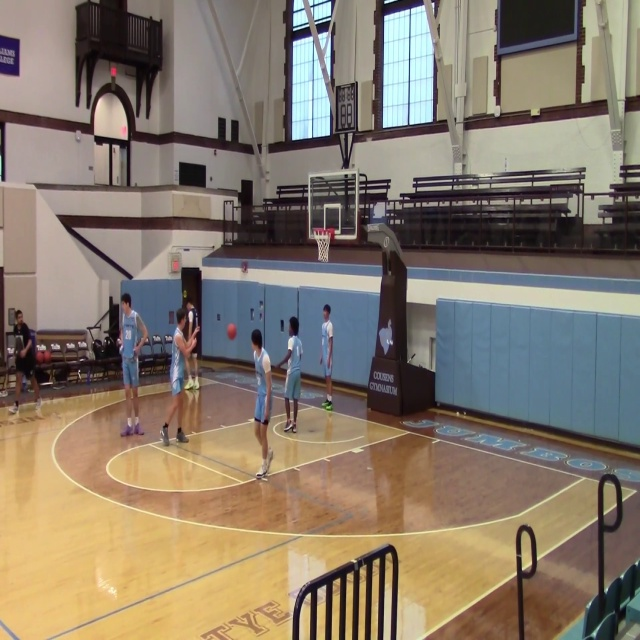Basketball: (227, 323, 236, 340)
